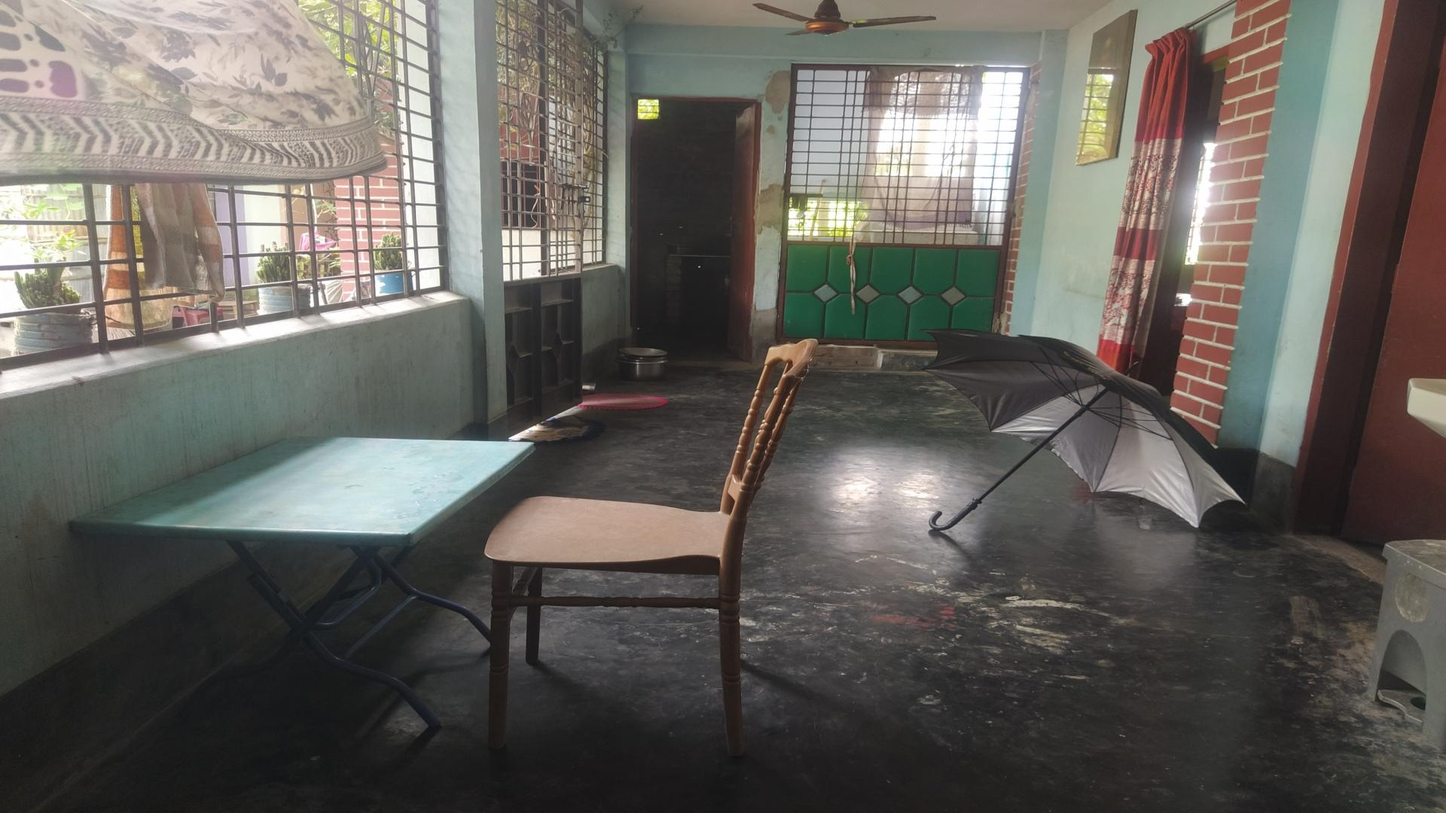Chair: (489, 341, 816, 750)
Door: (790, 65, 1014, 351), (632, 93, 751, 362)
Fan: (755, 0, 944, 49)
Table: (63, 444, 531, 773)
Umbrella: (917, 323, 1251, 551)
